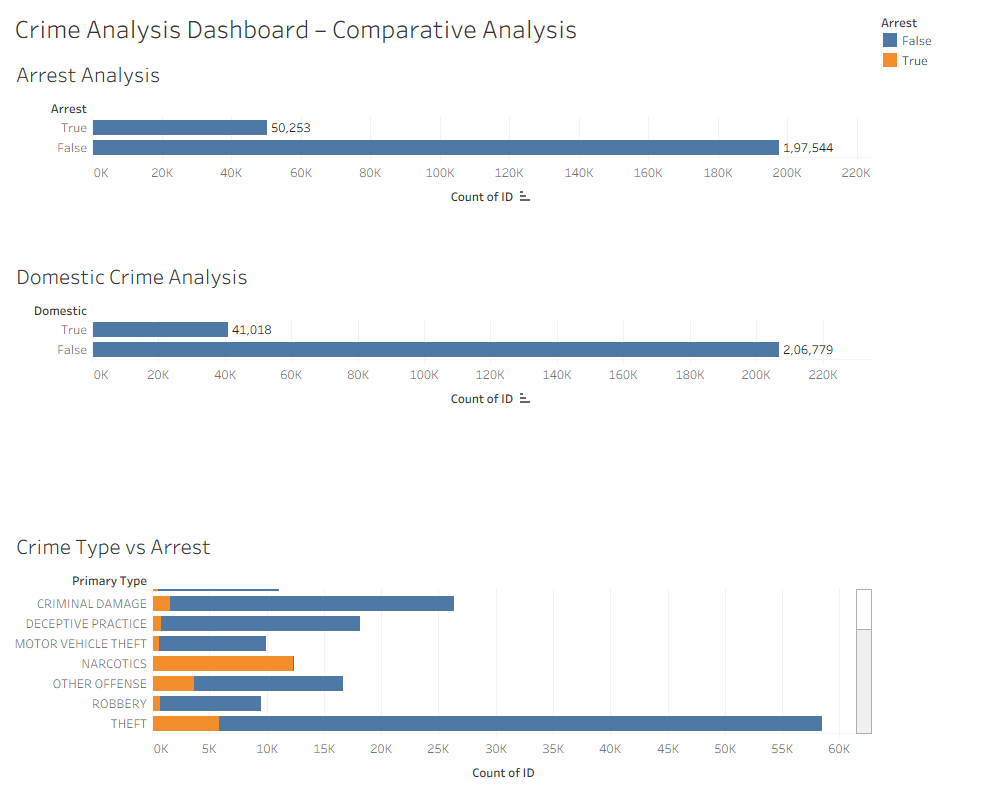

The dashboard page shown, as its layout file describes it:
{"tool":"tableau","page":{"name":"Crime Analysis Dashboard – Comparative Analysis","canvas":[1000,800],"ordinal":0},"visuals":[{"type":"title","box":[8,8,868,42]},{"type":"legend","title":"Crime Type vs Arrest","param":"[federated.0sb4vrp04rdnd515fpecp0ylfsqa].[none:Arrest:nk]","box":[876,8,116,66]},{"type":"worksheet","title":"Arrest Analysis","mark":"Automatic","rows":["Arrest"],"cols":["ID"],"box":[8,50,868,202]},{"type":"worksheet","title":"Domestic Crime Analysis","mark":"Automatic","rows":["Domestic"],"cols":["ID"],"box":[8,252,868,270]},{"type":"worksheet","title":"Crime Type vs Arrest","mark":"Automatic","rows":["Primary Type"],"cols":["ID"],"box":[8,522,868,270]}]}

Visuals, with their boxes in screenshot pixels (x1, y1, x2, y2), scaled from the page's 1000x800 canvas onto the 1000x800 screenshot:
title: bbox(8, 8, 876, 50)
"Crime Type vs Arrest" legend: bbox(876, 8, 992, 74)
"Arrest Analysis" worksheet: bbox(8, 50, 876, 252)
"Domestic Crime Analysis" worksheet: bbox(8, 252, 876, 522)
"Crime Type vs Arrest" worksheet: bbox(8, 522, 876, 792)
